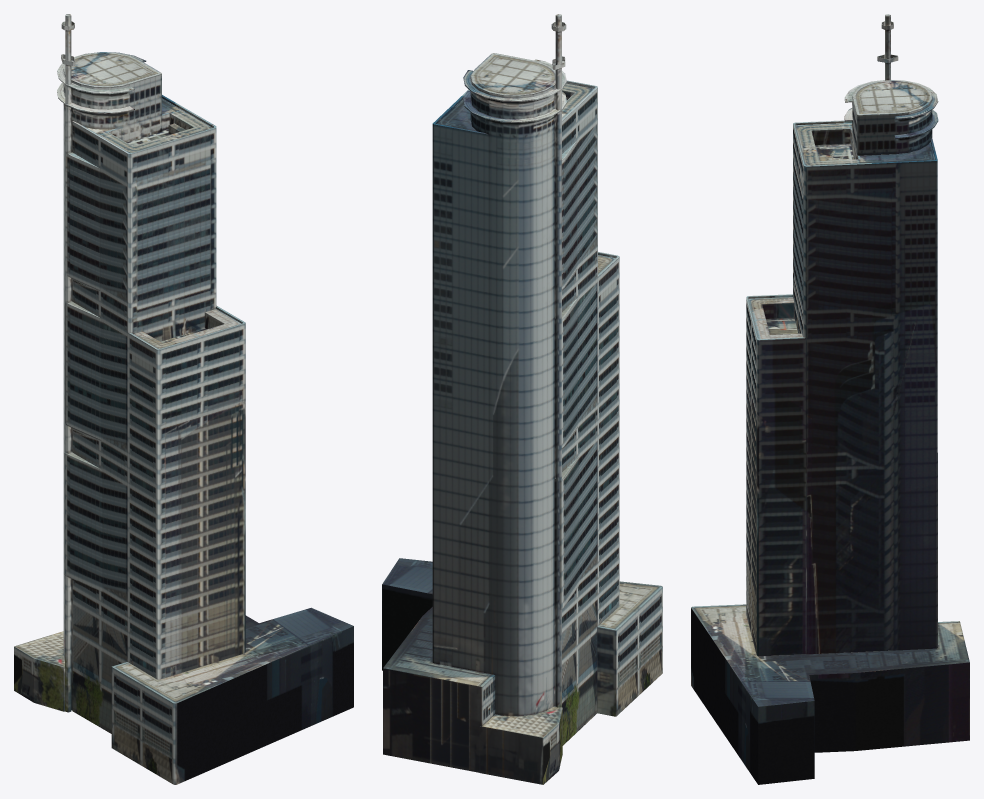
3 views of the same model, side by side, from view 1: azimuth 30°, elevation 25°; view 2: azimuth 150°, elevation 25°; view 3: azimuth 270°, elevation 25° (orthographic). The views are drawn at different scales.
Visible parts, largest first — view 1: 19_0.glb; view 2: 19_0.glb; view 3: 19_0.glb.
Part boxes in pixels (x1,y1,x2,y2): 19_0.glb: (14,14,353,784); 19_0.glb: (382,14,662,784); 19_0.glb: (691,14,969,784).
Bounding box in the file's own units: 63.2 × 177 × 66.91.
1 material, 1 textured.
